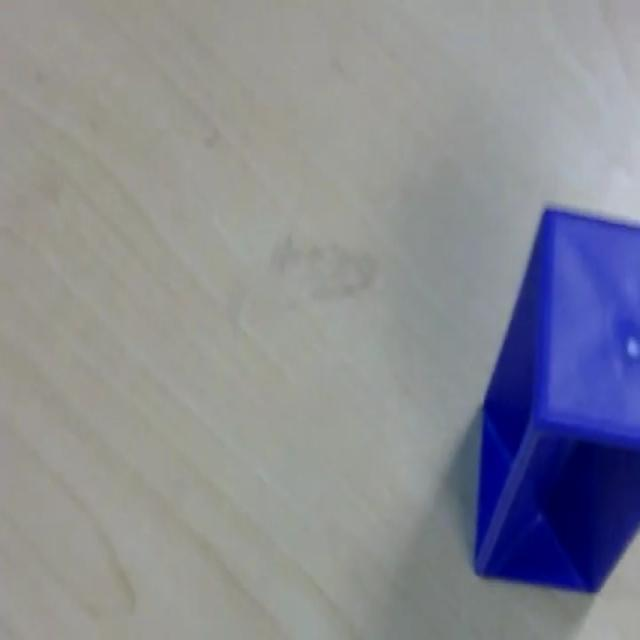blue_block: (472, 201, 638, 595)
